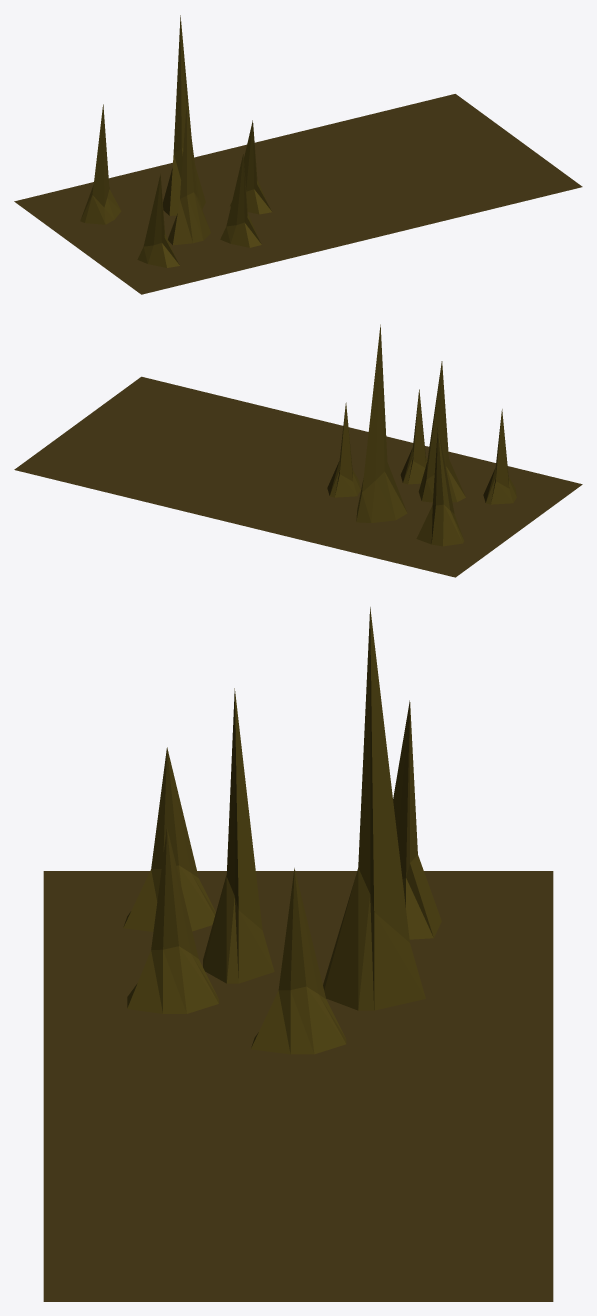
Rendered from obj_trap_3_0.obj.
3 views of the same model, one above another, from view 1: azimuth 30°, elevation 25°; view 2: azimuth 150°, elevation 25°; view 3: azimuth 270°, elevation 25° (orthographic). The views are drawn at different scales.
Bounding box in the file's own units: 2 × 0.8281 × 1.
